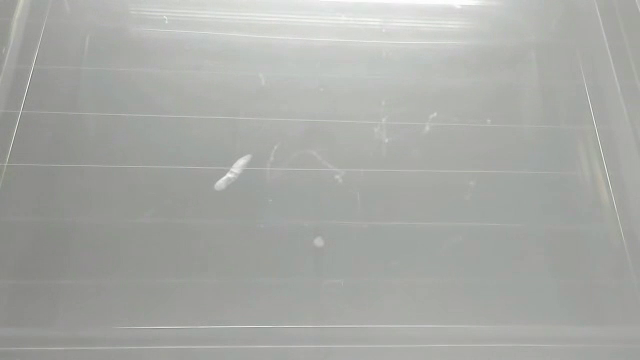alpha: (212, 152, 255, 192), (308, 230, 329, 252)
